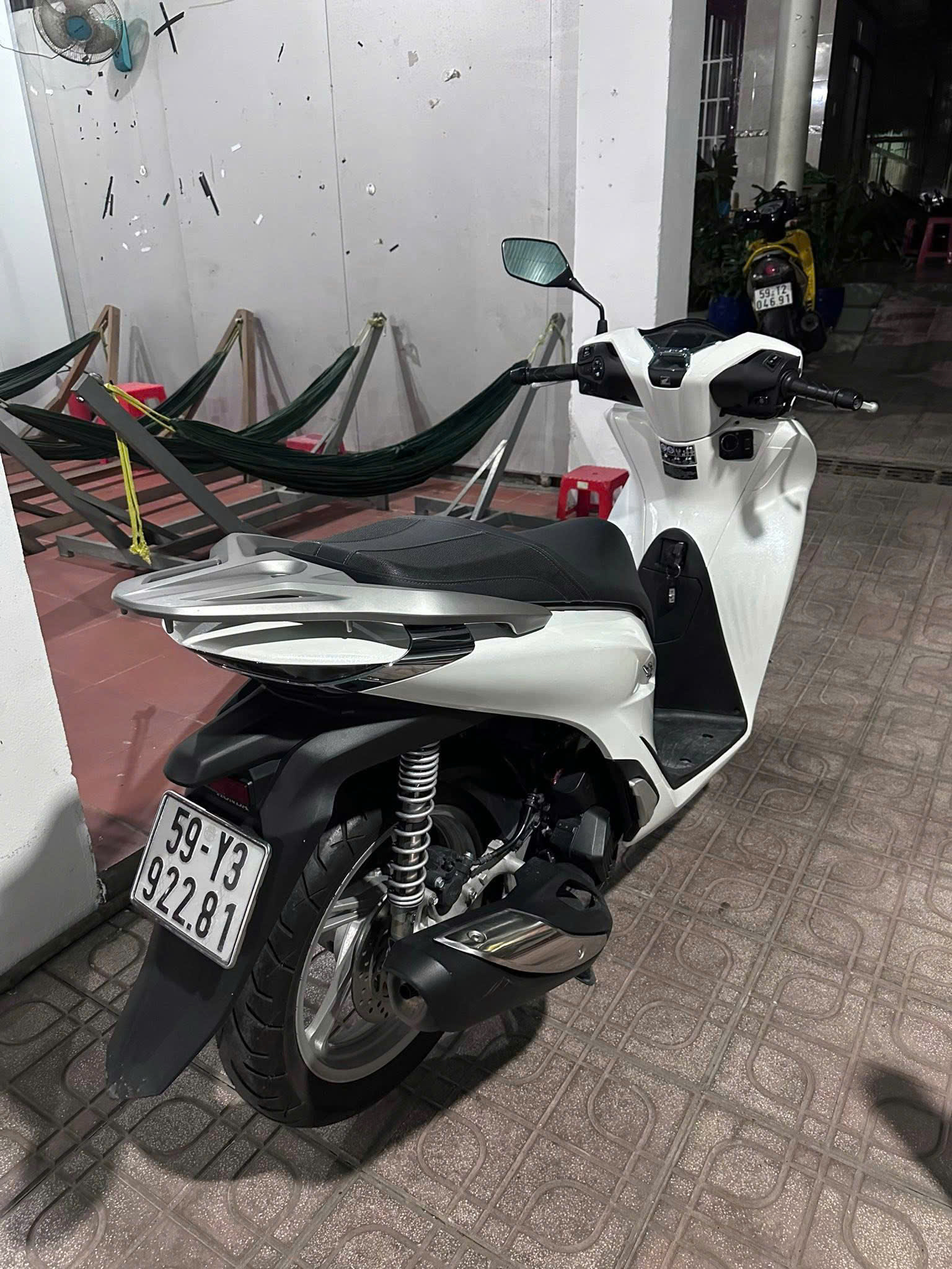Bien-so: (118, 787, 269, 975)
